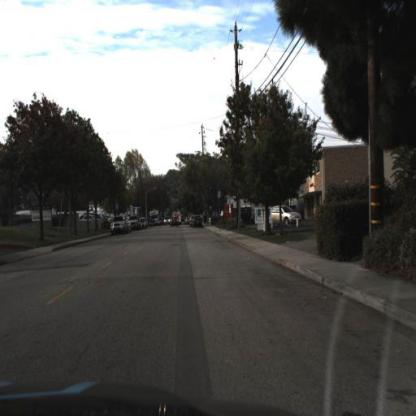car: (265, 195, 304, 229), (107, 210, 128, 238), (78, 208, 102, 223), (168, 209, 182, 228), (191, 212, 204, 232)
